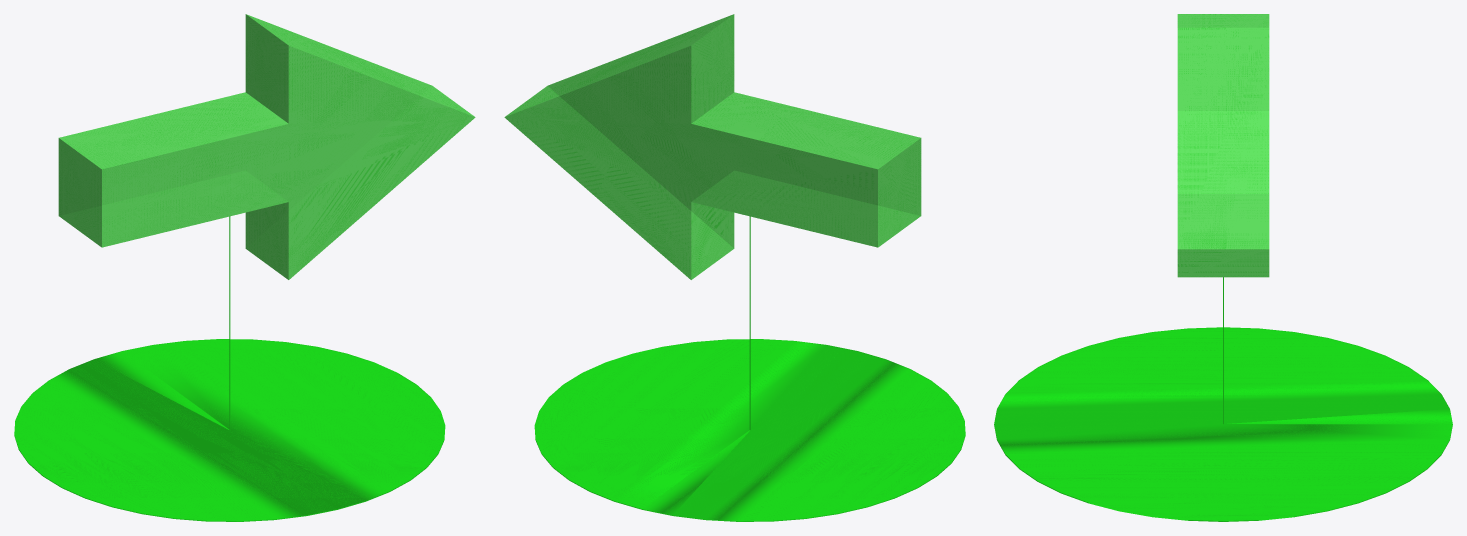
The model's file is waypoint_finish.dae.
The picture shows the model from 3 angles, left to right: view 1: azimuth 30°, elevation 25°; view 2: azimuth 150°, elevation 25°; view 3: azimuth 270°, elevation 25°; orthographic projection. The views are drawn at different scales.
Visible parts, largest first — view 1: SketchUp (×2); view 2: SketchUp (×2); view 3: SketchUp (×2).
Boxes of the visible parts, x1,y1,x2,y2 form: SketchUp (×2): (14, 14, 475, 521); SketchUp (×2): (504, 14, 965, 521); SketchUp (×2): (994, 14, 1452, 521).
Size of the model in its own units: 21.65 by 19.69 by 19.72.
